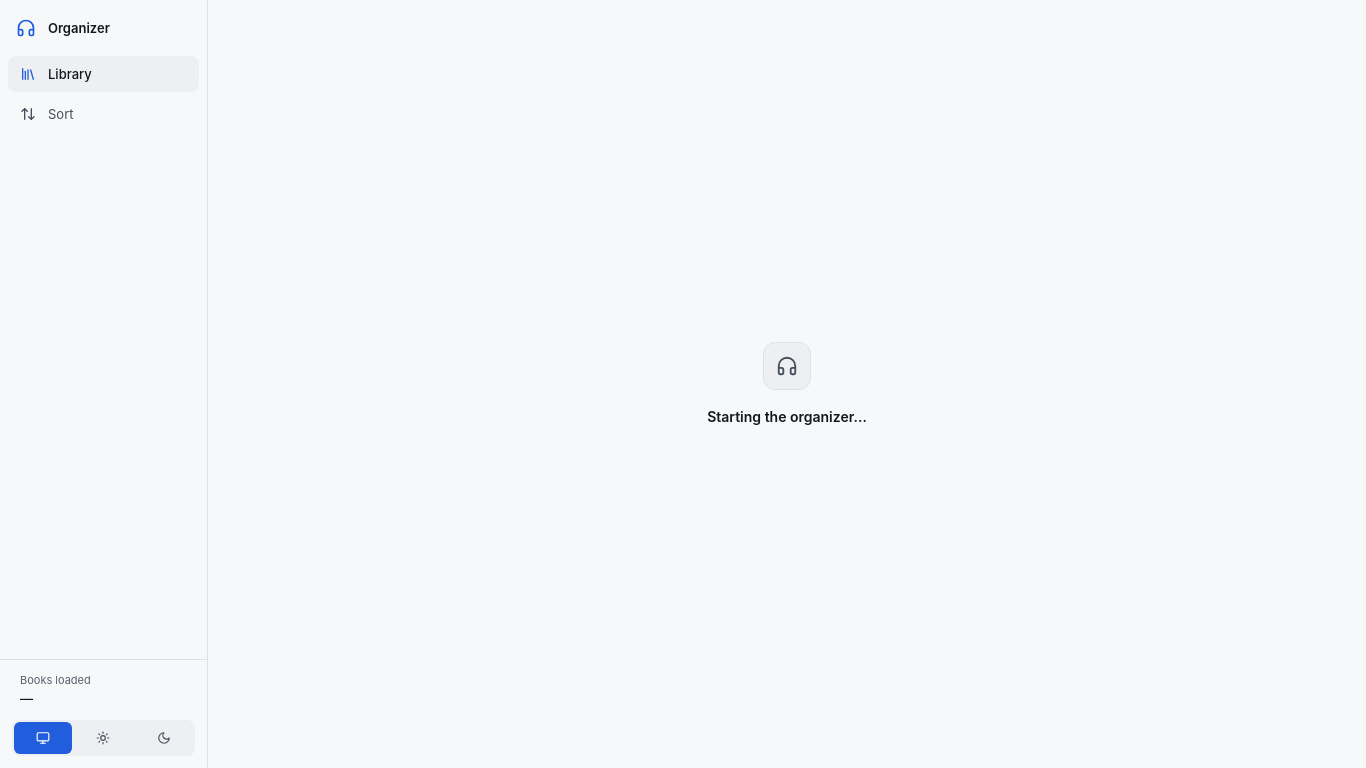
Scenario: SortPage › says once, not twice, that the organizer cannot be reached
Click the button "Sort".
click(104, 114)  # box top-left (8, 96), bottom-right (199, 132)
(page scrolled)
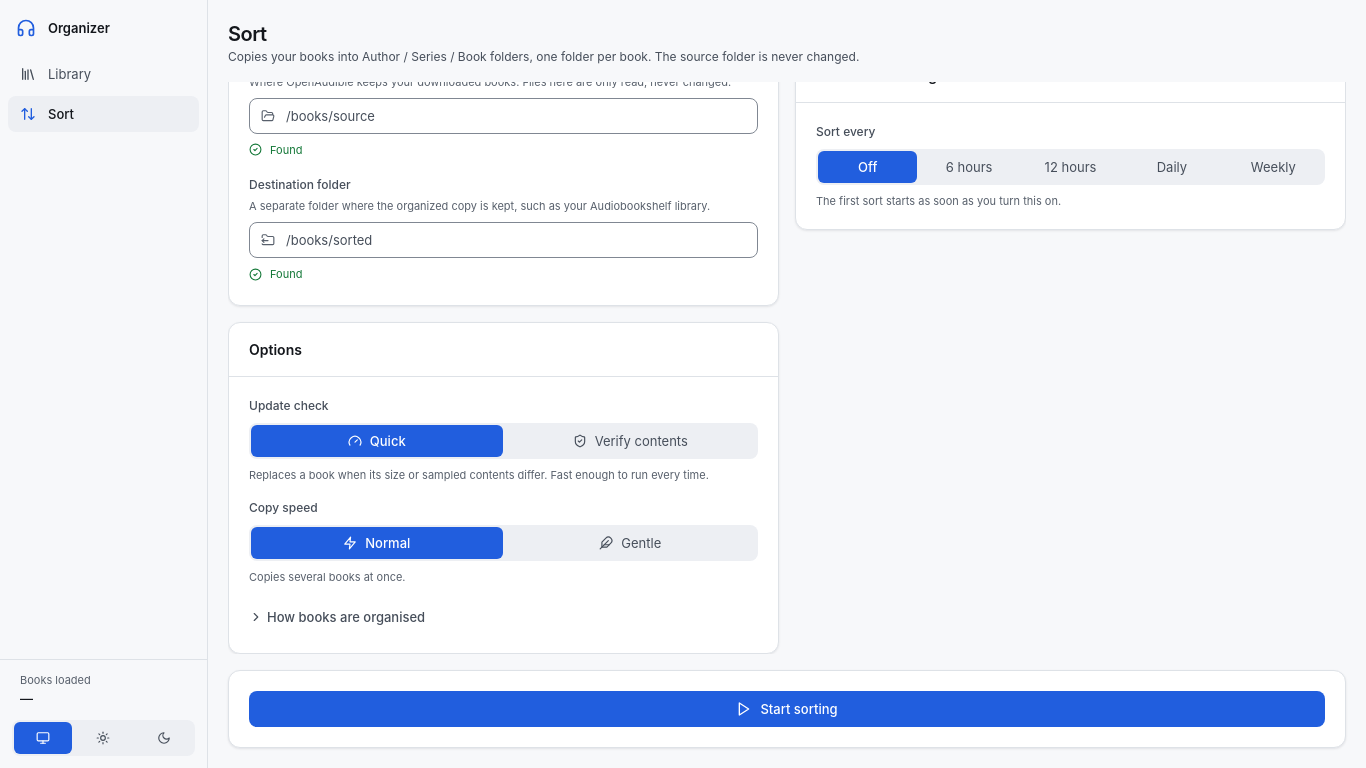
Click the radio button labelled "Gentle".
click(630, 542)  # box top-left (504, 526), bottom-right (756, 558)
Wait 36000 ms
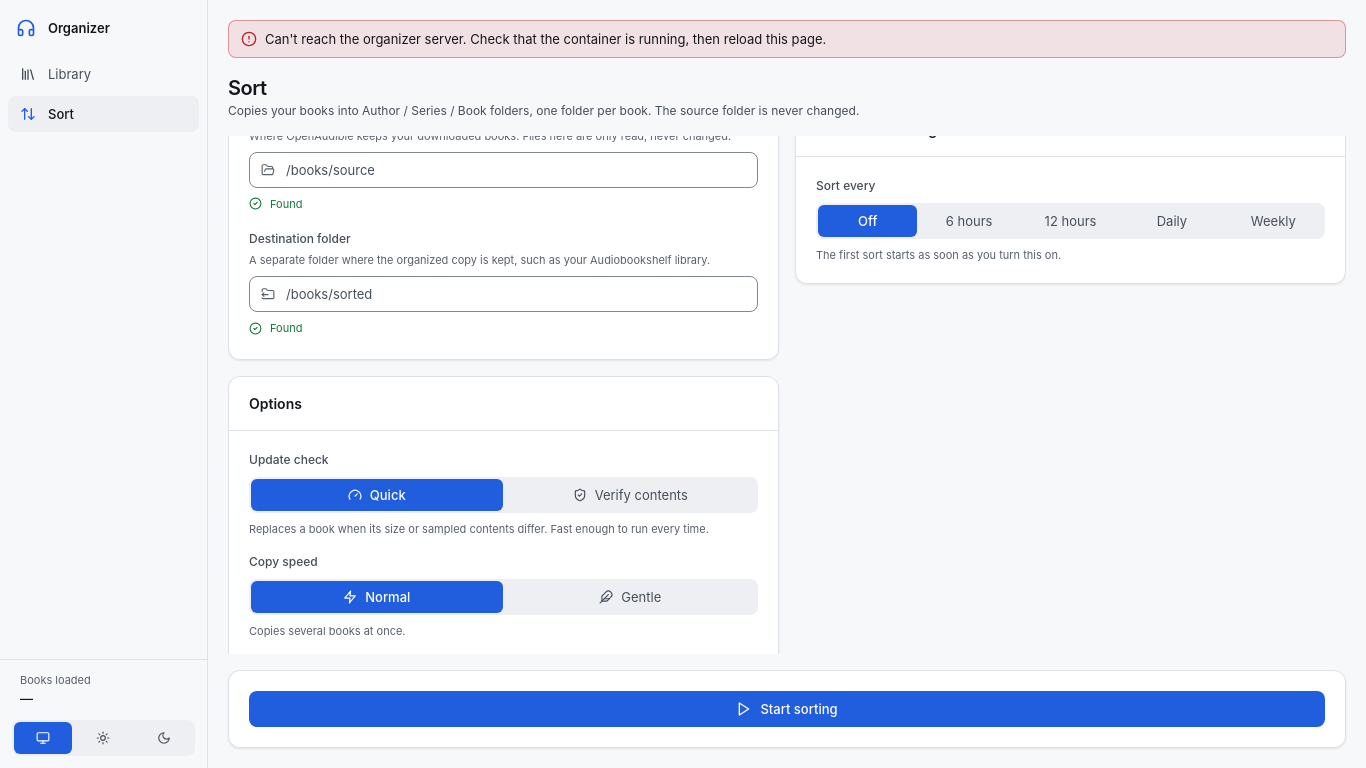
Expected: the text "Can't reach the organizer server. Check that the container is running, then reload this page." is shown once, top-left (265, 29), bottom-right (826, 49)
